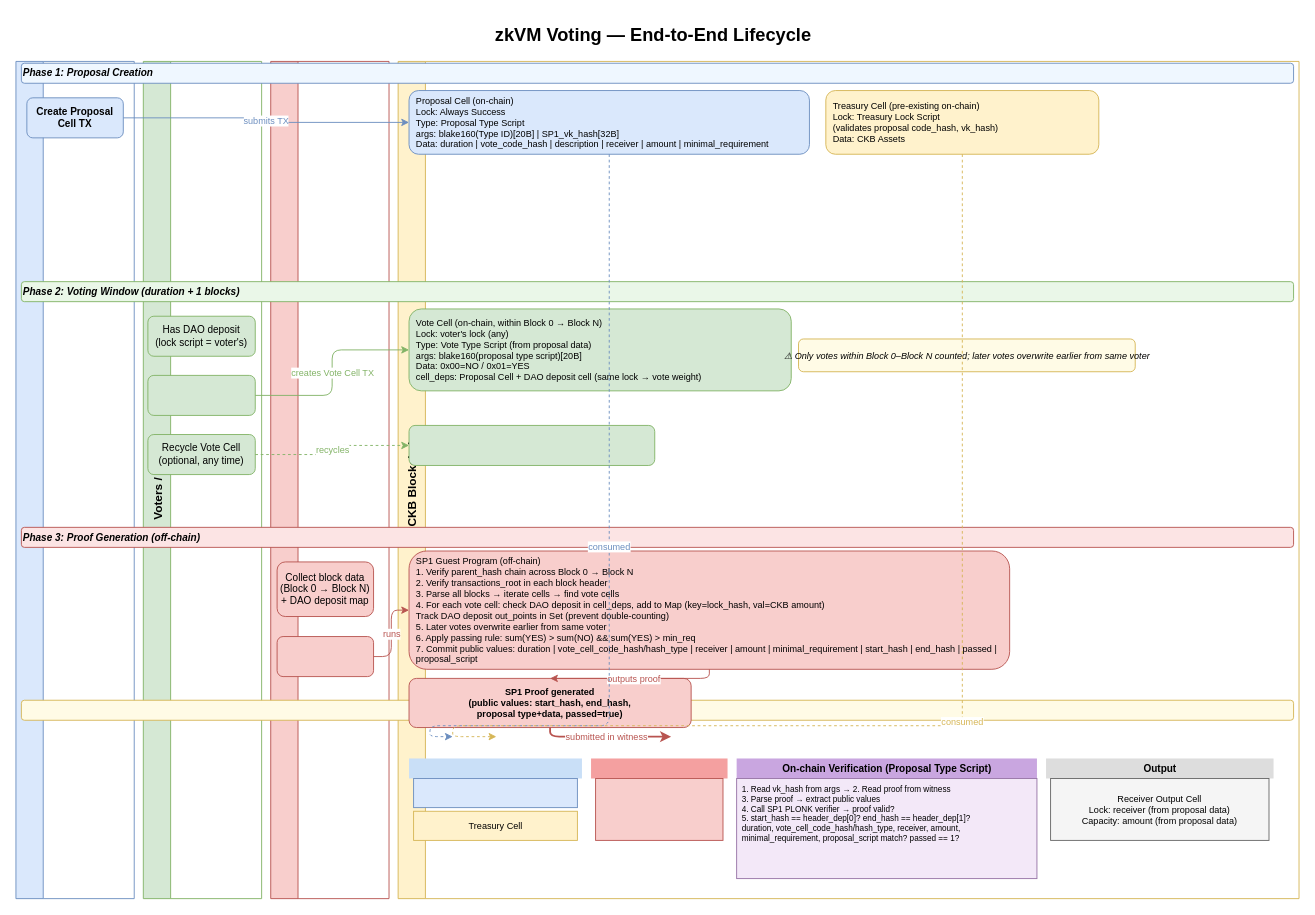
Image size: 1315x915. Some labels were removed from this diagram. The box of each missing label's shape, as (x1, y1, x2, y2) in pixels:
Create Vote Cell TX: (147, 374, 255, 415)
Inputs: (409, 758, 581, 778)
Off-chain Prover: (270, 61, 389, 899)
Phase 4: On-chain Settlement: (20, 699, 1294, 720)
Proposal Cell (from Block 0): (413, 778, 577, 808)
Proposer (anyone): (15, 61, 134, 899)
Run SP1 Guest Program: (276, 636, 374, 677)
SP1 Proof: (595, 778, 723, 840)
Vote Cell removed (type script does nothing on input): (408, 425, 655, 465)
Witnesses: (591, 758, 727, 778)
